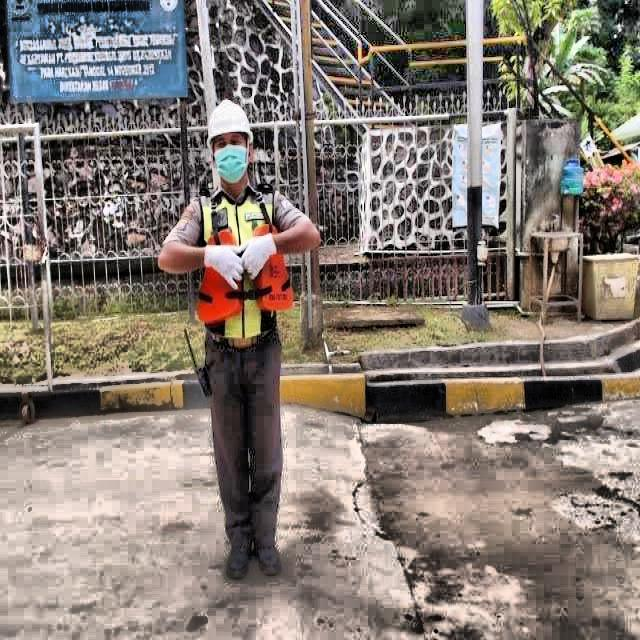safety_helmet: (205, 98, 255, 146)
safety_jacket: (200, 187, 295, 346)
